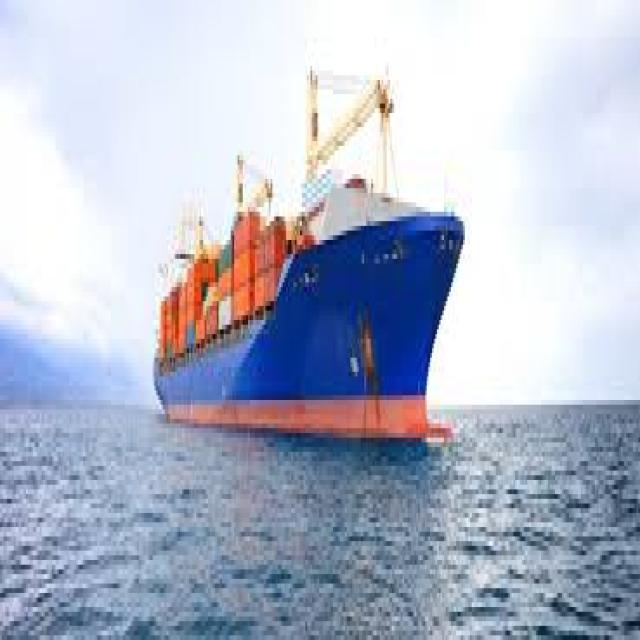cargoship: (149, 69, 464, 442)
